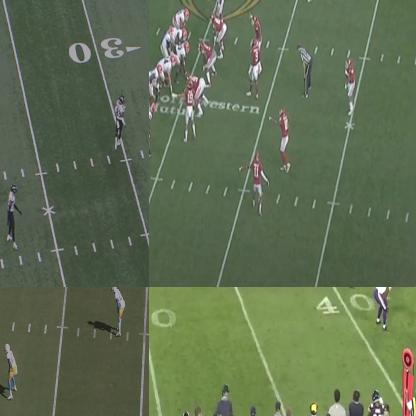CENTER: (177, 40, 190, 72)
DB: (374, 287, 395, 328), (114, 94, 126, 150), (6, 343, 18, 397), (278, 107, 288, 167), (252, 153, 262, 212), (9, 184, 18, 248), (114, 287, 126, 335), (346, 58, 356, 115)
LB: (251, 41, 259, 98), (252, 15, 262, 41)
QB: (160, 24, 174, 59)
SKILL: (186, 79, 194, 133), (149, 102, 156, 154), (214, 0, 225, 16)
